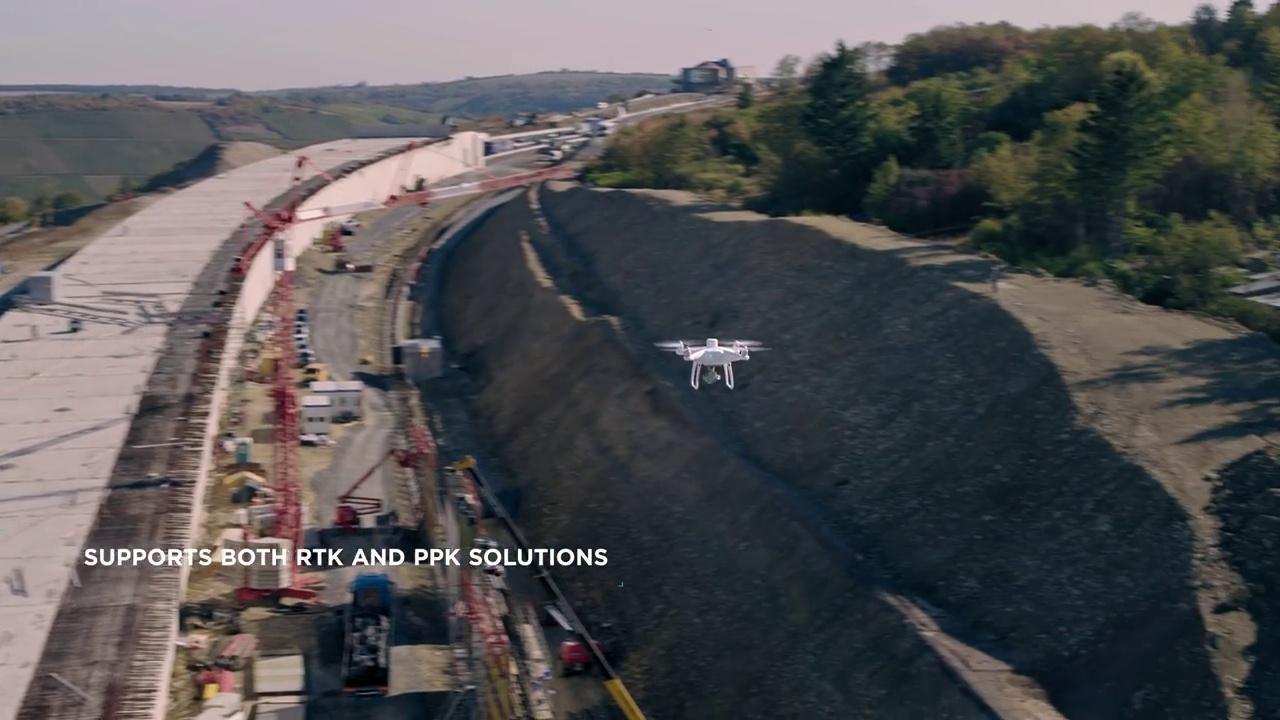drone: (647, 331, 776, 393)
